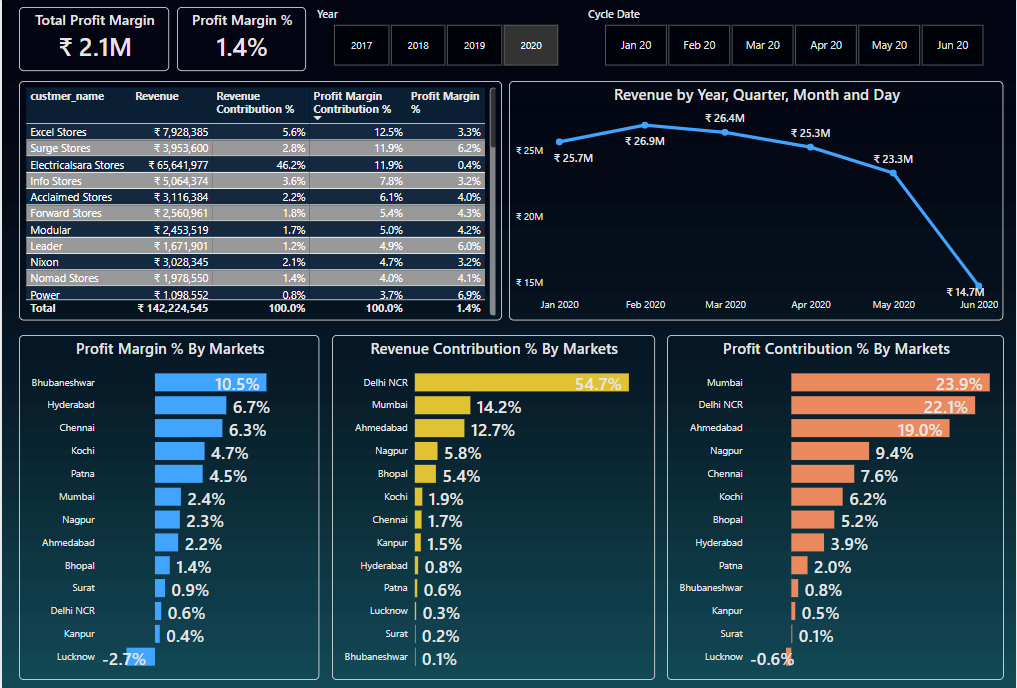

Layout of this report page (visuals, bound fields, positions):
{"tool":"powerbi","page":{"name":"Profit Analysis","canvas":[1250,850],"ordinal":1},"visuals":[{"type":"card","title":"Profit Margin %","fields":{"Values":["Key Matrix.Profit Margin %"]},"box":[215,10,158.8,78.8],"z":0},{"type":"barChart","title":"Profit Margin % By Markets","fields":{"Category":["sales markets.markets_name"],"Y":["Key Matrix.Profit Margin %"]},"box":[21.2,413.8,370,425],"z":2000},{"type":"barChart","title":"Profit Contribution % By Markets","fields":{"Category":["sales markets.markets_name"],"Y":["Key Matrix.Profit Margin % Contributors"]},"box":[818.8,413.8,415,425],"z":3000},{"type":"tableEx","fields":{"Values":["sales customers.custmer_name","Key Matrix.Revenue","Key Matrix.Revenue Contribution %","Key Matrix.Profit Margin Contribution %","Key Matrix.Profit Margin %"]},"box":[21.2,101.2,595,295],"z":4000},{"type":"lineChart","fields":{"Y":["Key Matrix.Revenue"],"Category":["sales date.cy_date.Variation.Date Hierarchy.Year","sales date.cy_date.Variation.Date Hierarchy.Quarter","sales date.cy_date.Variation.Date Hierarchy.Month","sales date.cy_date.Variation.Date Hierarchy.Day"]},"box":[625,101.2,608.8,295],"z":5000},{"type":"slicer","title":"Year","fields":{"Values":["sales date.year"]},"box":[382.5,10,326.2,78.8],"z":6000},{"type":"slicer","title":"Cycle Date","fields":{"Values":["sales date.cy_date"]},"box":[717.5,10,516.2,78.8],"z":7000},{"type":"card","title":"Total Profit Margin","fields":{"Values":["Key Matrix.Total Profit Margin"]},"box":[21.2,10,185,78.8],"z":8000},{"type":"barChart","title":"Revenue Contribution % By Markets","fields":{"Category":["sales markets.markets_name"],"Y":["Key Matrix.Revenue Contribution %"]},"box":[406.2,413.8,397.5,425],"z":9000}]}

Visuals, with their boxes in screenshot pixels (x1, y1, x2, y2), scaled from the page's 1250x850 canvas onto the 1017x688 screenshot:
"Profit Margin %" card: crop(175, 8, 304, 72)
"Profit Margin % By Markets" barChart: crop(17, 335, 318, 679)
"Profit Contribution % By Markets" barChart: crop(666, 335, 1004, 679)
tableEx - sales customers.custmer_name x Key Matrix.Revenue: crop(17, 82, 501, 321)
lineChart - Key Matrix.Revenue x sales date.cy_date.Variation.Date Hierarchy.Year: crop(508, 82, 1004, 321)
"Year" slicer: crop(311, 8, 577, 72)
"Cycle Date" slicer: crop(584, 8, 1004, 72)
"Total Profit Margin" card: crop(17, 8, 168, 72)
"Revenue Contribution % By Markets" barChart: crop(330, 335, 654, 679)
